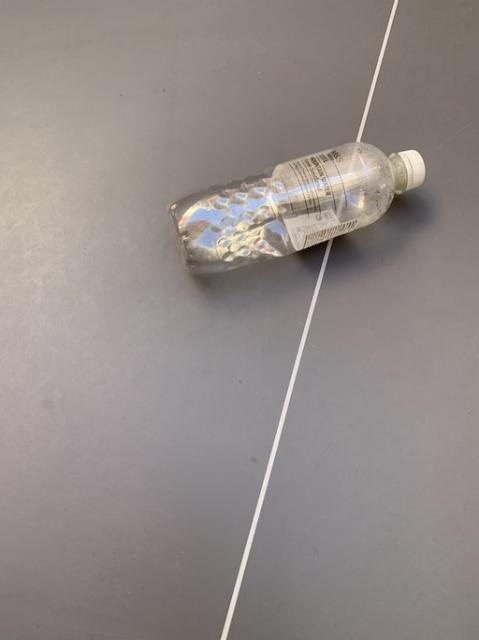plastic: (169, 141, 424, 272)
